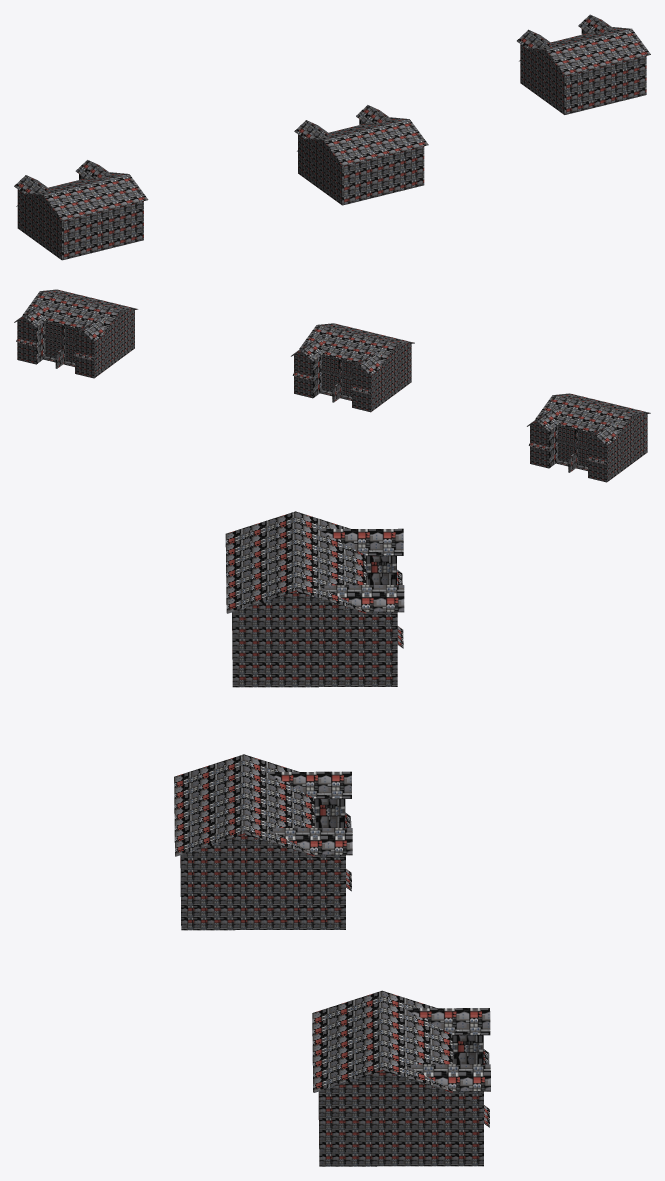
Rendered from fangzi11.FBX.
3 views of the same model, one above another, from view 1: azimuth 30°, elevation 25°; view 2: azimuth 150°, elevation 25°; view 3: azimuth 270°, elevation 25° (orthographic). The views are drawn at different scales.
Visible parts, largest first — view 1: fangzi11; view 2: fangzi11; view 3: fangzi11.
Boxes of the visible parts, <box> form: fangzi11: <box>14,14,650,260</box>; fangzi11: <box>14,289,650,482</box>; fangzi11: <box>174,511,490,1166</box>.
Bounding box in the file's own units: 3813 × 316 × 914.
